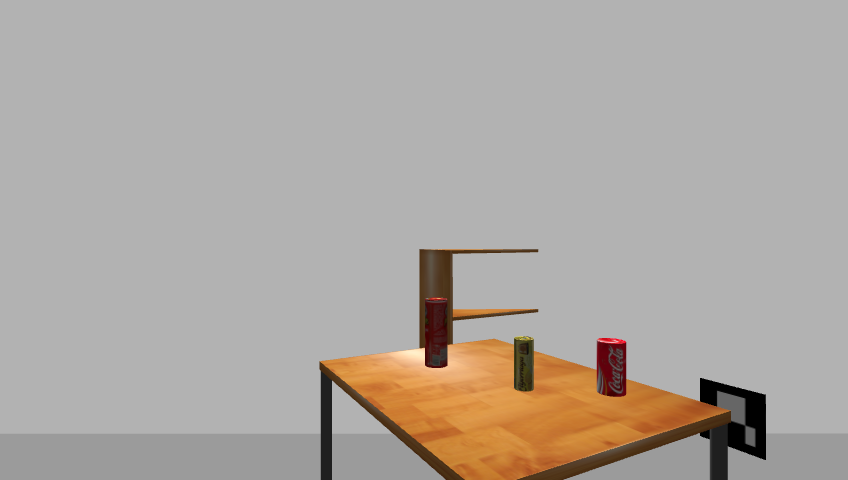aruco marker: (694, 377, 772, 461)
biscuits pack: (513, 336, 535, 394)
bookshelf: (414, 243, 544, 404)
coke can: (595, 338, 629, 397)
dinner table: (312, 339, 738, 479)
pringles can: (422, 298, 450, 370)
